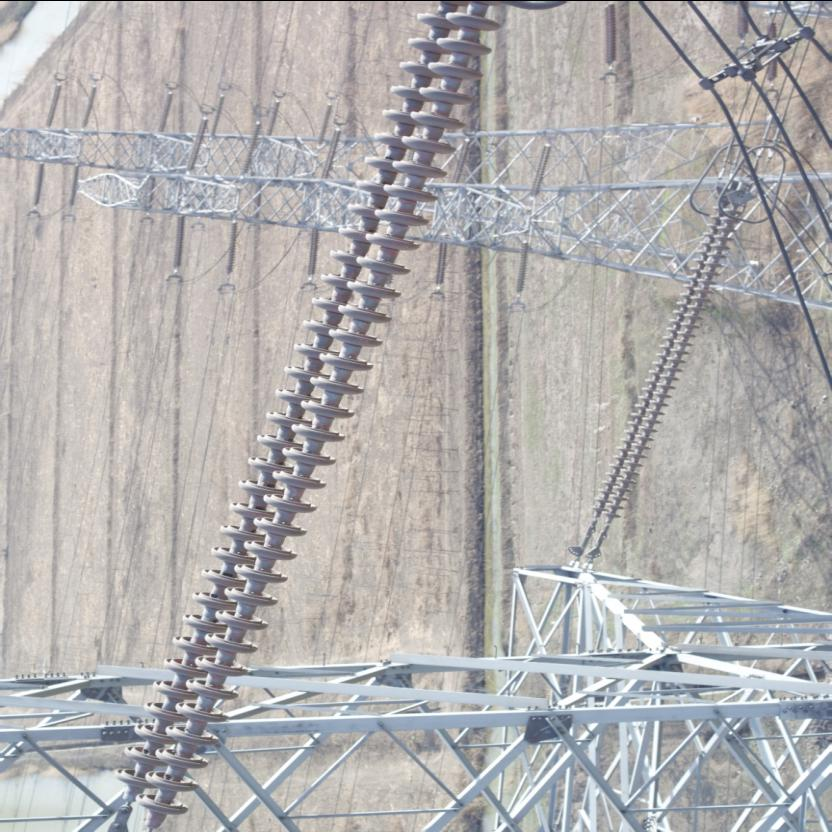insulator: (107, 1, 505, 831), (586, 194, 741, 540)
